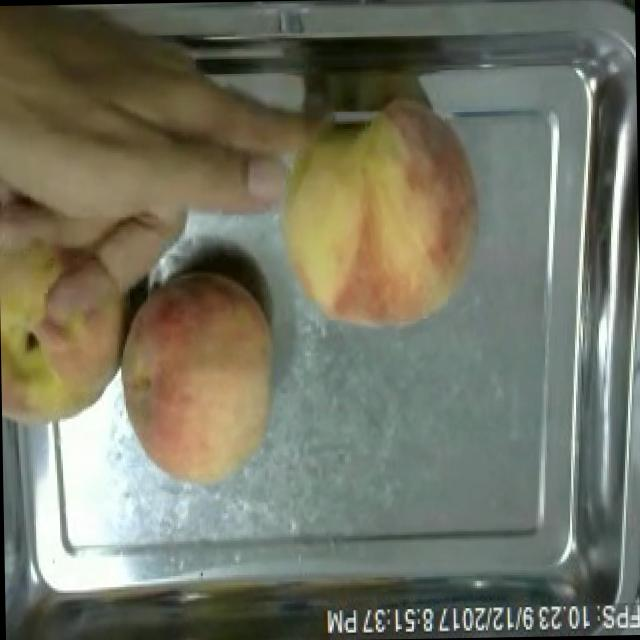Fruit: (260, 94, 488, 338), (107, 262, 285, 494), (0, 182, 136, 440)
